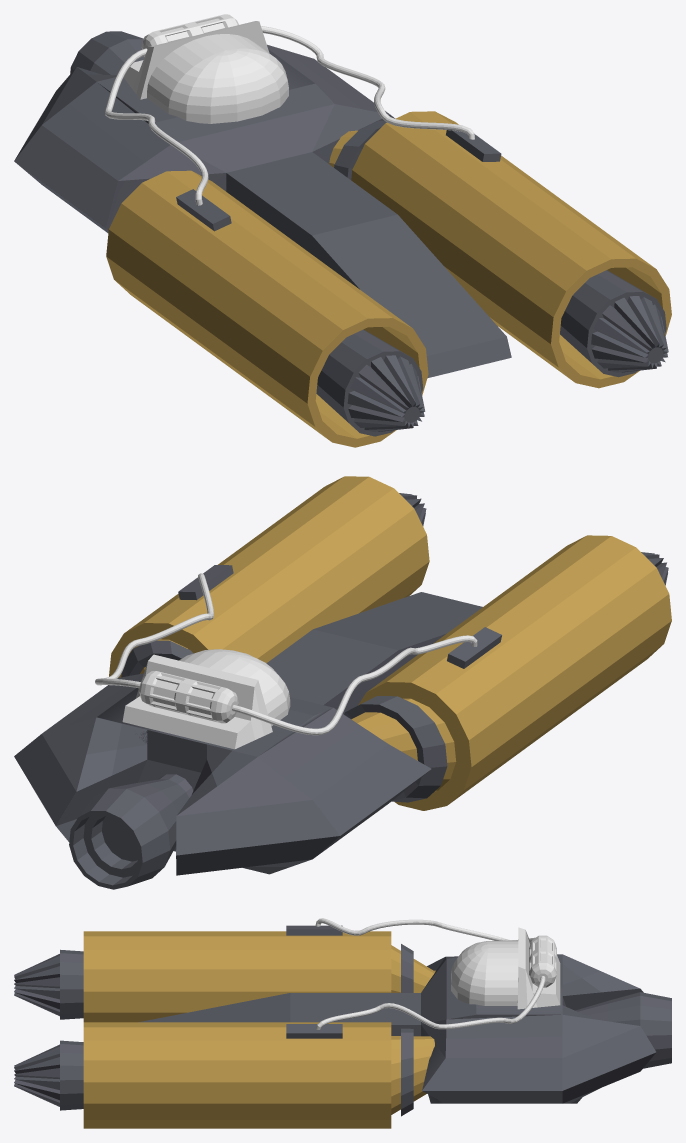
File: vroom.fbx
The picture shows the model from 3 angles, top to bottom: view 1: azimuth 30°, elevation 25°; view 2: azimuth 150°, elevation 25°; view 3: azimuth 270°, elevation 25°; orthographic projection. The views are drawn at different scales.
Parts seen in each view (by area): view 1: Cylinder.005, Cube.004, Sphere.001, Cylinder.004, Cube, BézierCurve.001, BézierCurve, Cylinder.003; view 2: Cylinder.005, Cube.004, Cylinder.004, Cube, Cylinder.003, Sphere.001, BézierCurve, BézierCurve.001; view 3: Cylinder.005, Cube.004, Sphere.001, Cylinder.004, Cube, BézierCurve.001, Cylinder.003, BézierCurve.
Boxes of the visible parts, x1,y1,x2,y2 form: Cylinder.005: [106, 111, 671, 447]; Cube.004: [14, 44, 511, 378]; Sphere.001: [147, 34, 288, 123]; Cylinder.004: [70, 31, 144, 75]; Cube: [123, 21, 269, 99]; BézierCurve.001: [261, 26, 474, 139]; BézierCurve: [105, 48, 208, 205]; Cylinder.003: [141, 14, 238, 56]; Cylinder.005: [109, 476, 671, 810]; Cube.004: [14, 592, 482, 875]; Cylinder.004: [69, 774, 193, 889]; Cube: [122, 654, 272, 749]; Cylinder.003: [139, 671, 238, 723]; Sphere.001: [179, 649, 290, 726]; BézierCurve: [232, 635, 477, 735]; BézierCurve.001: [95, 573, 213, 688]; Cylinder.005: [14, 925, 435, 1128]; Cube.004: [139, 954, 656, 1103]; Sphere.001: [451, 941, 518, 1005]; Cylinder.004: [575, 992, 671, 1068]; Cube: [517, 927, 560, 1009]; BézierCurve.001: [316, 976, 545, 1029]; Cylinder.003: [529, 935, 556, 987]; BézierCurve: [315, 918, 535, 942].
Bounding box in the file's own units: 600 × 271 × 1227.
